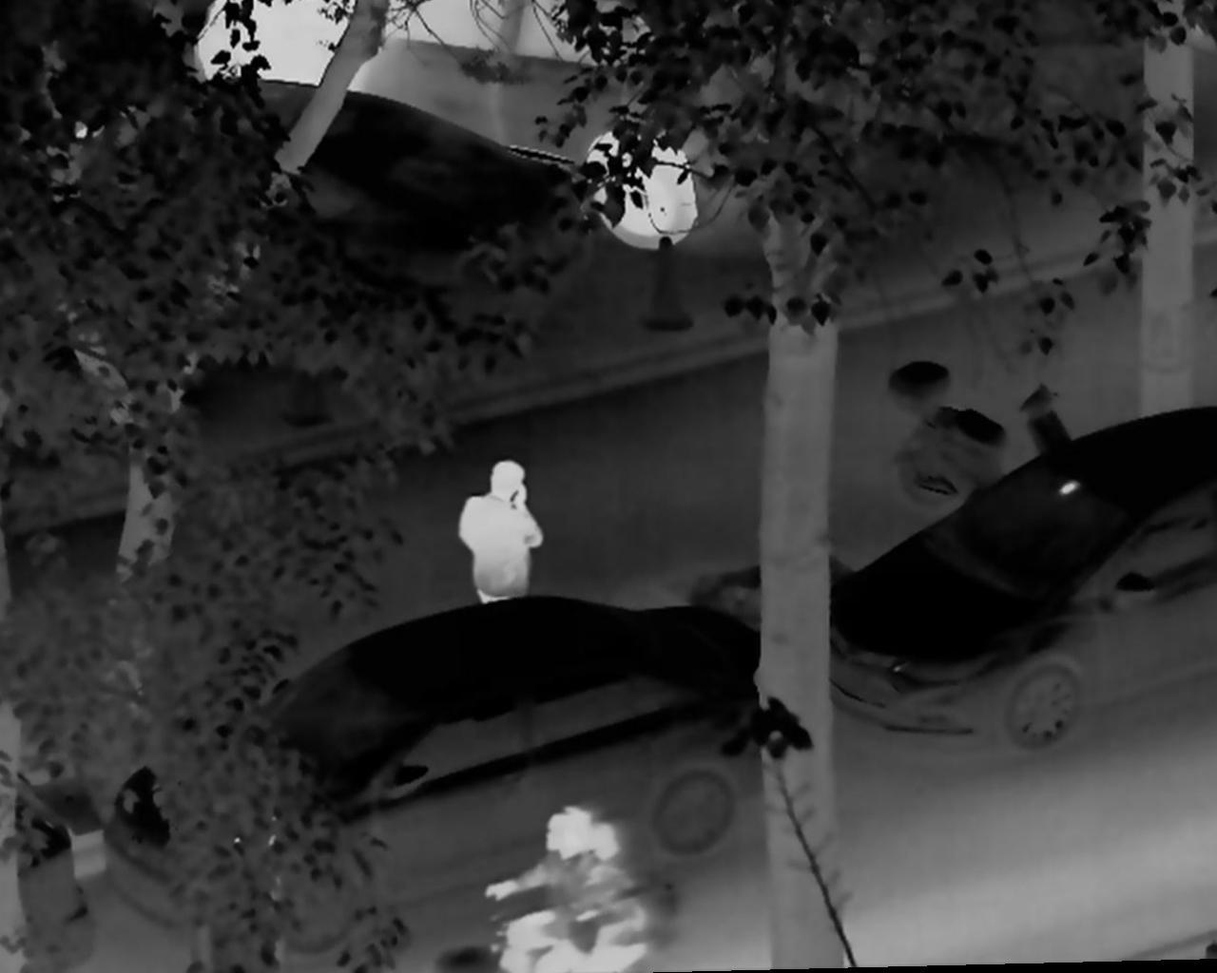person: (489, 805, 608, 973), (444, 453, 546, 624), (576, 823, 655, 973)
